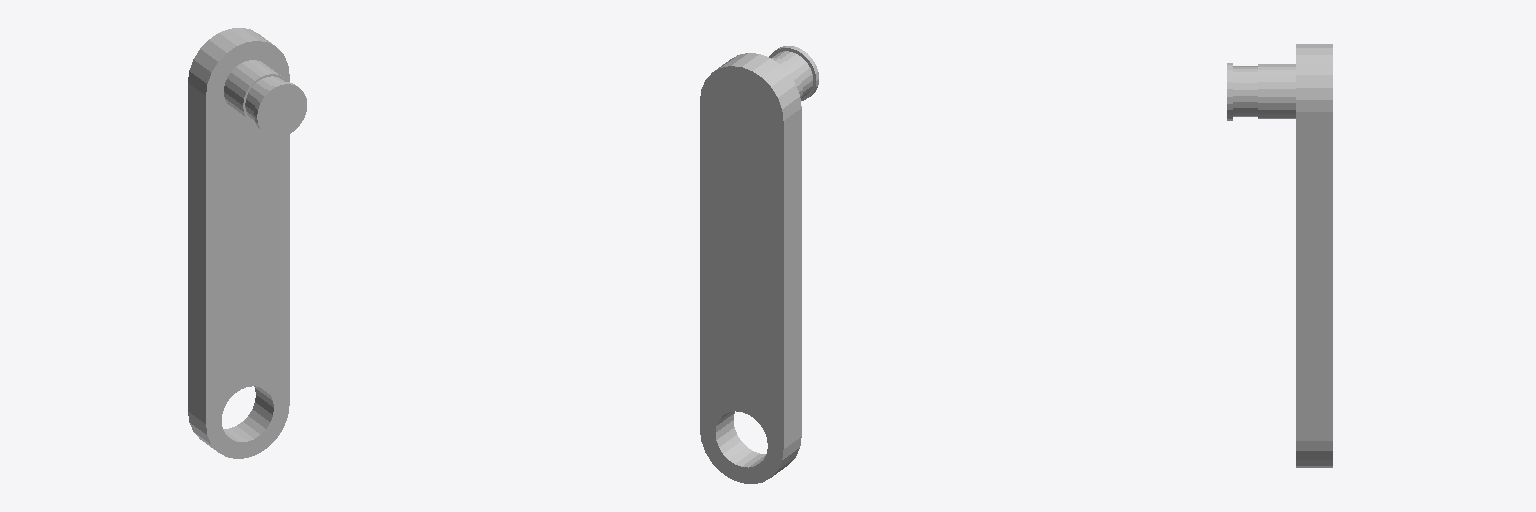
Rendered from RS_LinkA_v1.obj.
3 renders of one model, left to right at view 1: azimuth 30°, elevation 25°; view 2: azimuth 150°, elevation 25°; view 3: azimuth 270°, elevation 25°, orthographic.
Visible parts, largest first — view 1: Mesh1 Group2 Group1 Model, Mesh3 Group5 _____29_1 Group3 Group1 Model, Mesh2 Group4 _____29_1 Group3 Group1 Model, Mesh4 Group6 _____29_1 Group3 Group1 Model; view 2: Mesh1 Group2 Group1 Model, Mesh4 Group6 _____29_1 Group3 Group1 Model; view 3: Mesh1 Group2 Group1 Model, Mesh2 Group4 _____29_1 Group3 Group1 Model, Mesh4 Group6 _____29_1 Group3 Group1 Model.
Boxes of the visible parts, x1,y1,x2,y2 form: Mesh1 Group2 Group1 Model: [188, 28, 289, 458]; Mesh3 Group5 _____29_1 Group3 Group1 Model: [254, 82, 306, 137]; Mesh2 Group4 _____29_1 Group3 Group1 Model: [224, 60, 286, 124]; Mesh4 Group6 _____29_1 Group3 Group1 Model: [245, 76, 284, 121]; Mesh1 Group2 Group1 Model: [700, 53, 801, 483]; Mesh4 Group6 _____29_1 Group3 Group1 Model: [772, 51, 812, 98]; Mesh1 Group2 Group1 Model: [1296, 44, 1332, 467]; Mesh2 Group4 _____29_1 Group3 Group1 Model: [1258, 64, 1295, 118]; Mesh4 Group6 _____29_1 Group3 Group1 Model: [1233, 66, 1257, 116].
Bounding box in the file's own units: 8 × 38 × 8.7.